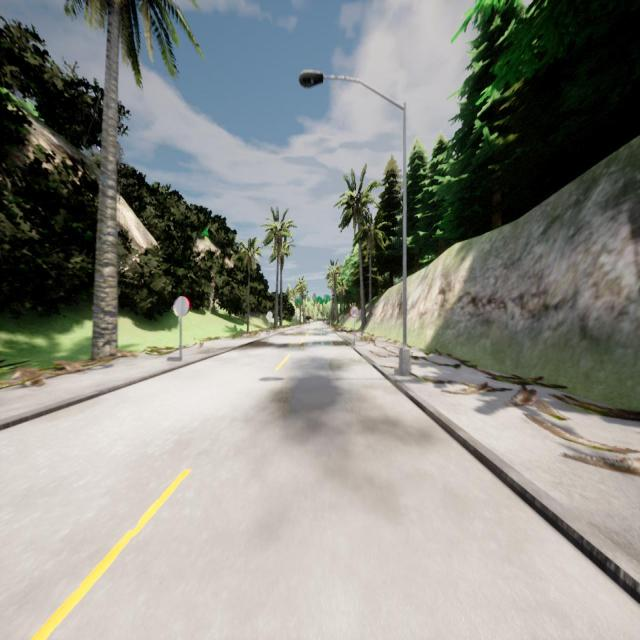Traffic_Signs: (174, 296, 190, 317), (350, 306, 359, 318), (265, 311, 273, 320)
